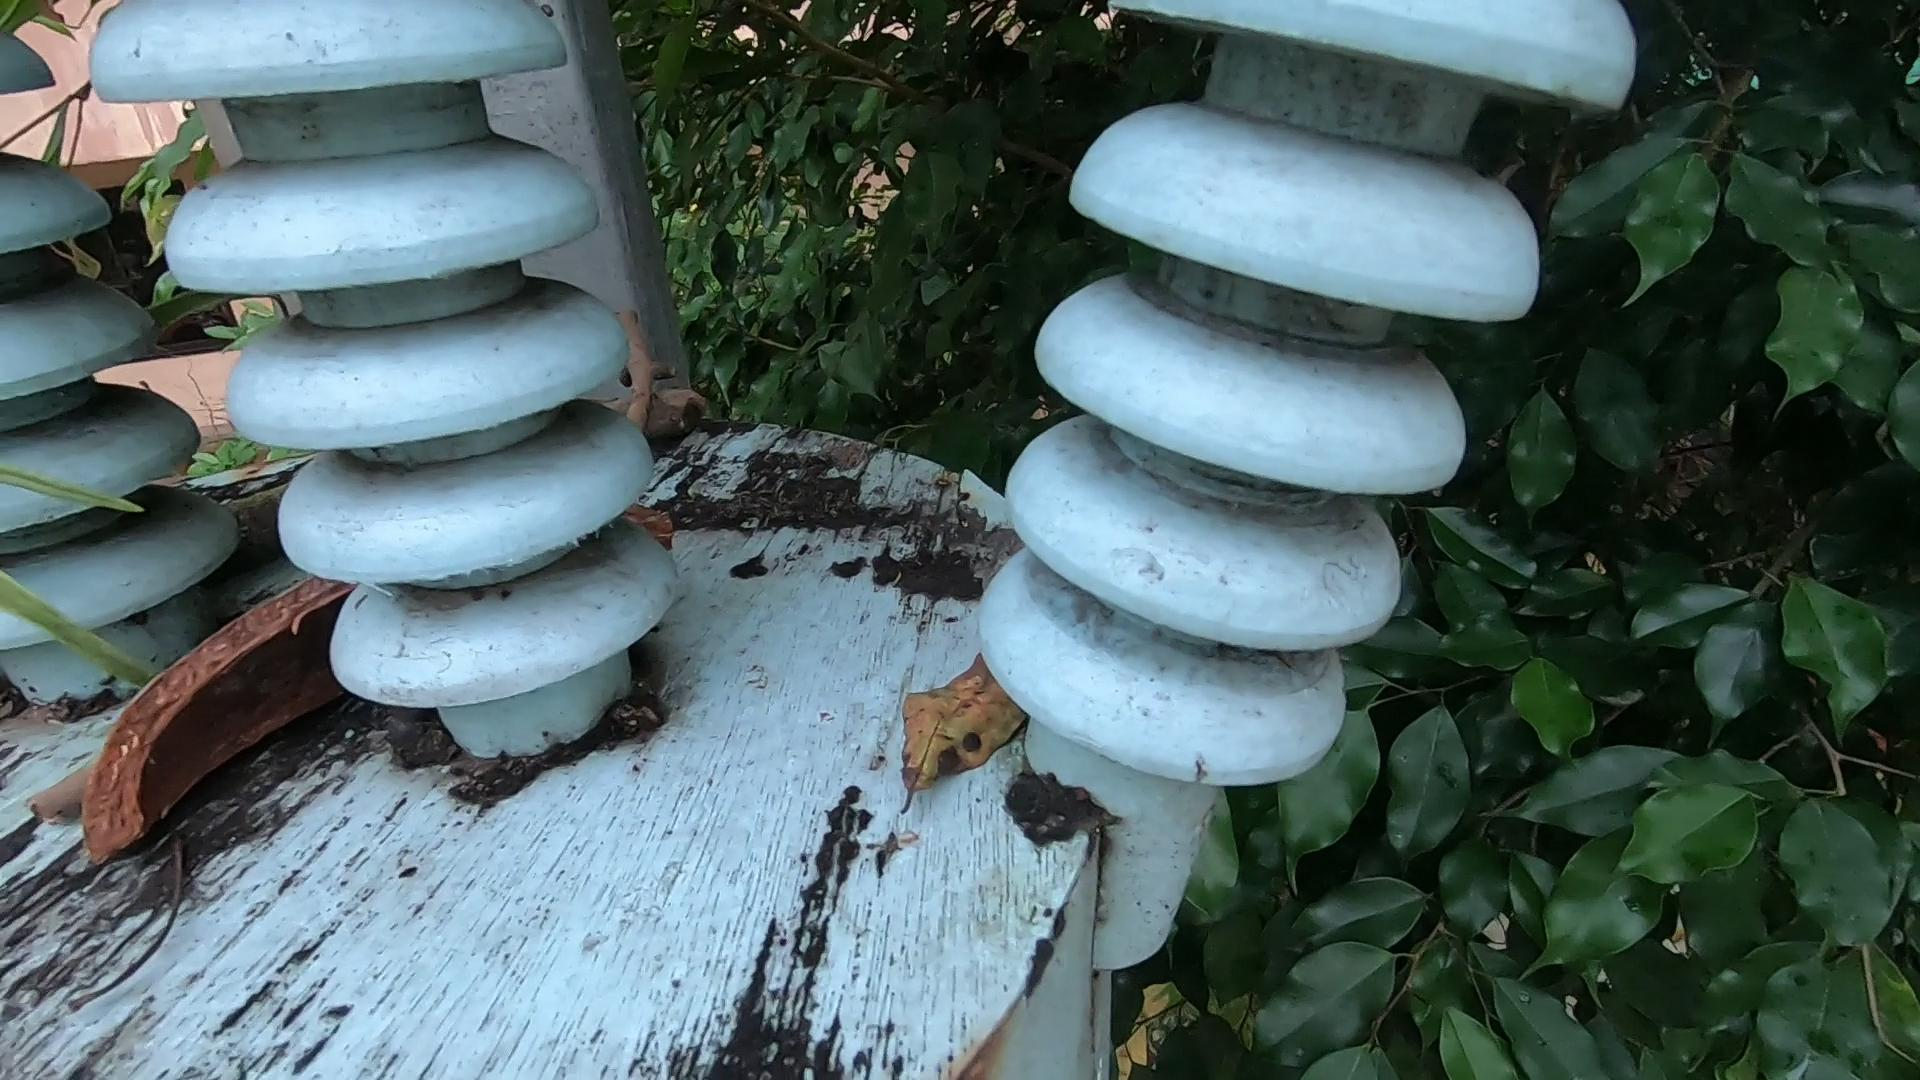leaf: (862, 584, 1077, 851)
mahogany fruit: (117, 467, 411, 967)
tree branch: (18, 732, 135, 890), (595, 284, 678, 480), (218, 471, 349, 589)
